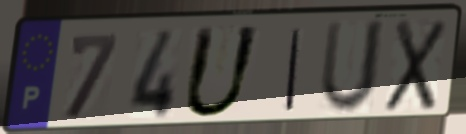4: (125, 27, 179, 122)
7: (65, 30, 121, 123)
I: (281, 26, 304, 113)
U: (178, 23, 265, 121), (315, 17, 389, 118)
X: (381, 17, 451, 115)
